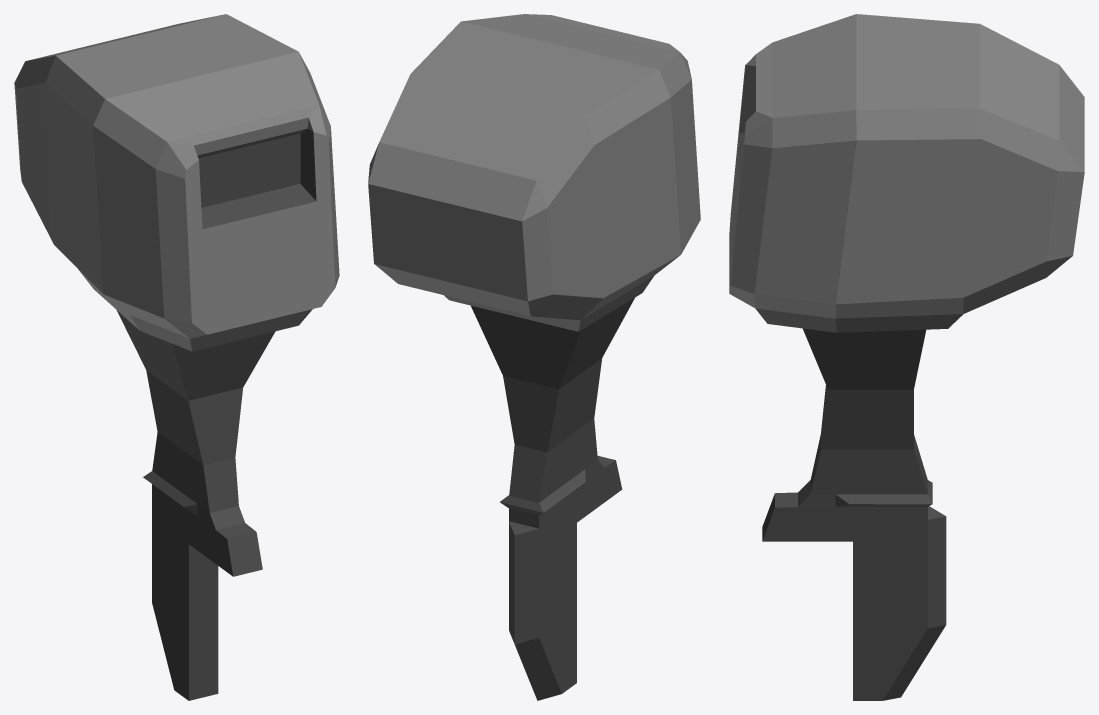
Rendered from fisher_engine.FBX.
3 renders of one model, left to right at view 1: azimuth 30°, elevation 25°; view 2: azimuth 150°, elevation 25°; view 3: azimuth 270°, elevation 25°, orthographic. The views are drawn at different scales.
Visible parts, largest first — view 1: fisher_engine; view 2: fisher_engine; view 3: fisher_engine.
Boxes of the visible parts, x1,y1,x2,y2 form: fisher_engine: [14, 14, 339, 700]; fisher_engine: [368, 14, 700, 700]; fisher_engine: [729, 14, 1084, 700].
Size of the model in its own units: 19.97 by 54.91 by 27.85.
